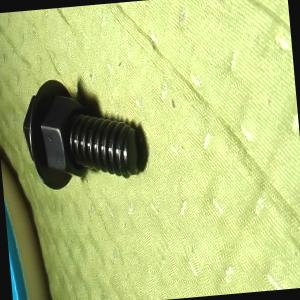parafuso: (18, 72, 148, 194)
